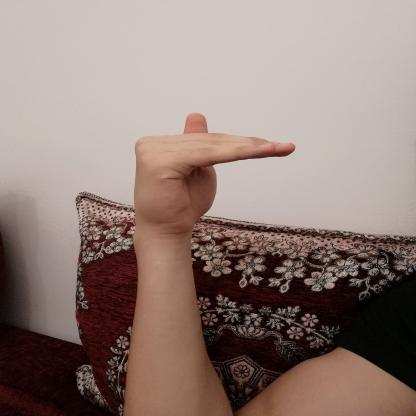KHAA: (113, 104, 312, 236)
